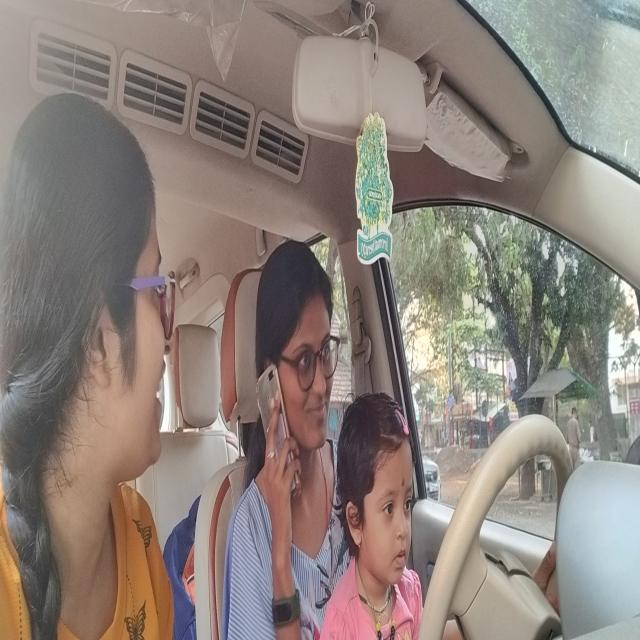child: (336, 380, 418, 600)
mobile: (257, 362, 302, 497)
person: (3, 88, 179, 528), (254, 231, 340, 464)
